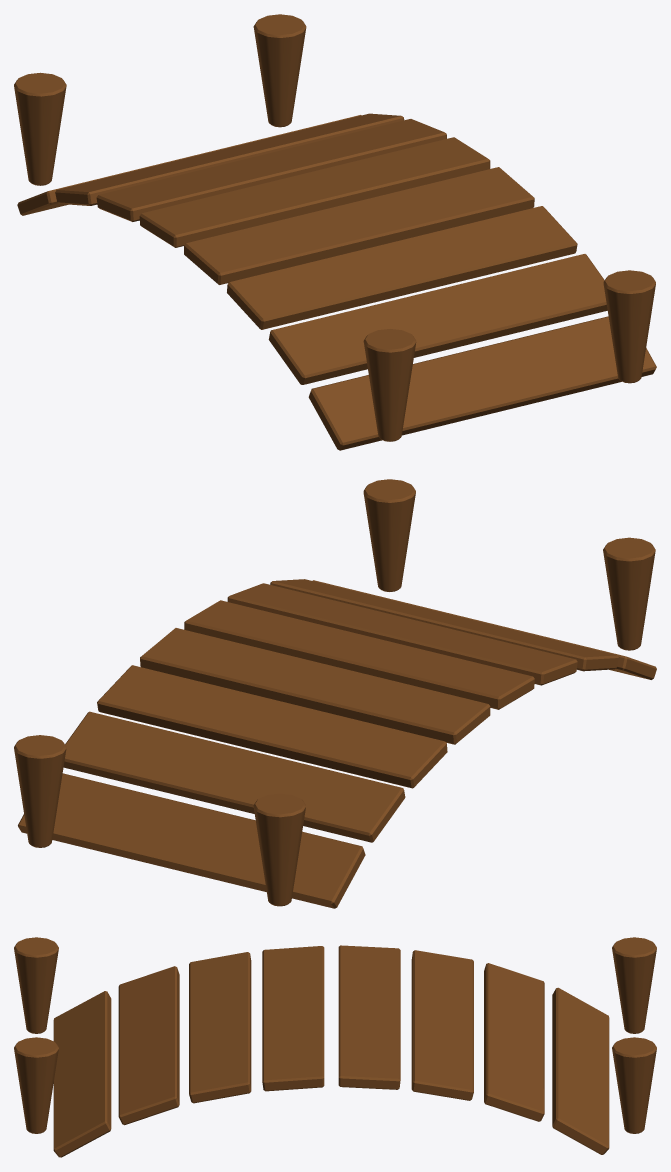
File: bridge.fbx
3 renders of one model, top to bottom at view 1: azimuth 30°, elevation 25°; view 2: azimuth 150°, elevation 25°; view 3: azimuth 270°, elevation 25°, orthographic. The views are drawn at different scales.
Parts seen in each view (by area): view 1: BRIDGE; view 2: BRIDGE; view 3: BRIDGE.
Part boxes in pixels (left/top/right/bottom): BRIDGE: left=14, top=14, right=656, bottom=450; BRIDGE: left=14, top=479, right=656, bottom=908; BRIDGE: left=14, top=937, right=656, bottom=1157.
Size of the model in its own units: 438 by 149 by 901.
